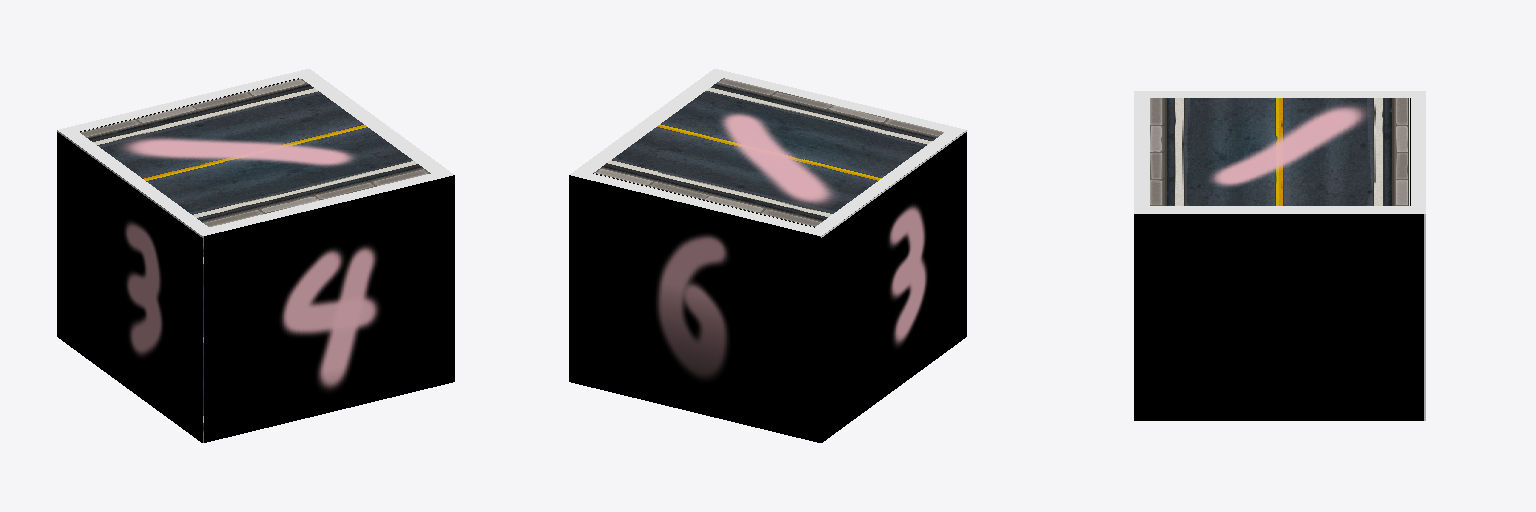
3 renders of one model, left to right at view 1: azimuth 30°, elevation 25°; view 2: azimuth 150°, elevation 25°; view 3: azimuth 270°, elevation 25°, orthographic.
Visible parts, largest first — view 1: Cube; view 2: Cube; view 3: Cube.
Part boxes in pixels (left/top/right/bottom): Cube: left=57, top=69, right=454, bottom=442; Cube: left=569, top=69, right=966, bottom=442; Cube: left=1134, top=91, right=1425, bottom=420.
Size of the model in its own units: 2 by 1.57 by 2.
Materials: 1 (1 with a texture image).